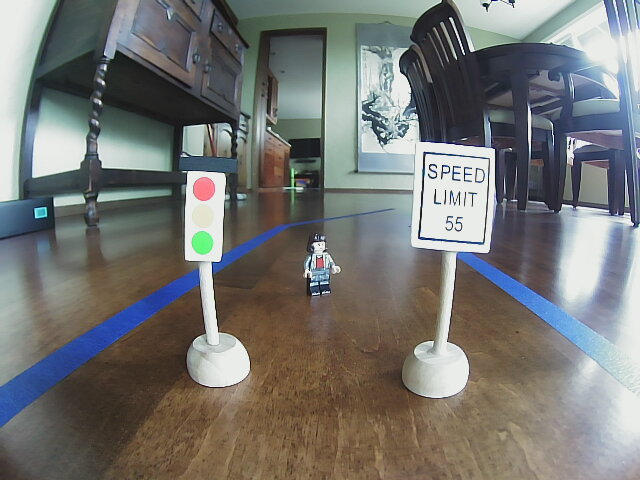SpeedLimit55: (418, 141, 486, 246)
TrafficLight: (178, 153, 226, 263)
person: (299, 228, 342, 297)
